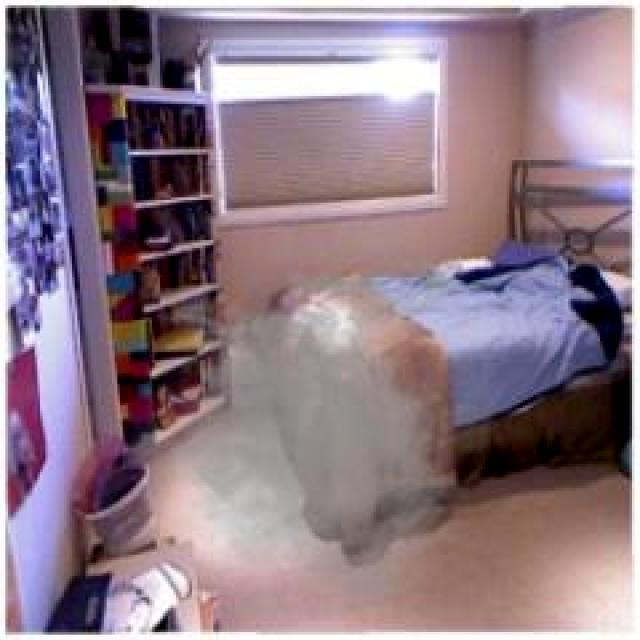no_helmet: (111, 248, 518, 608)
